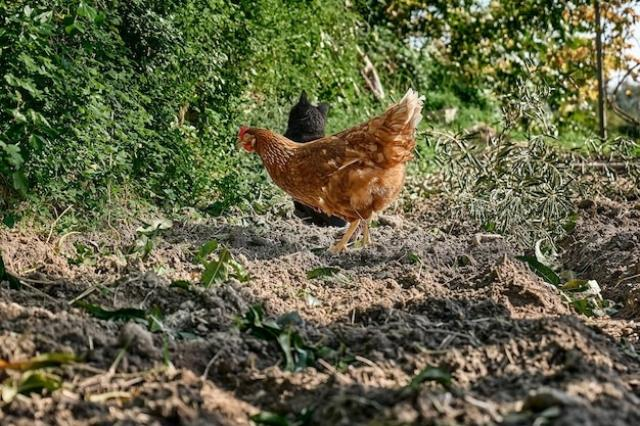Chicken: (237, 88, 426, 255)
